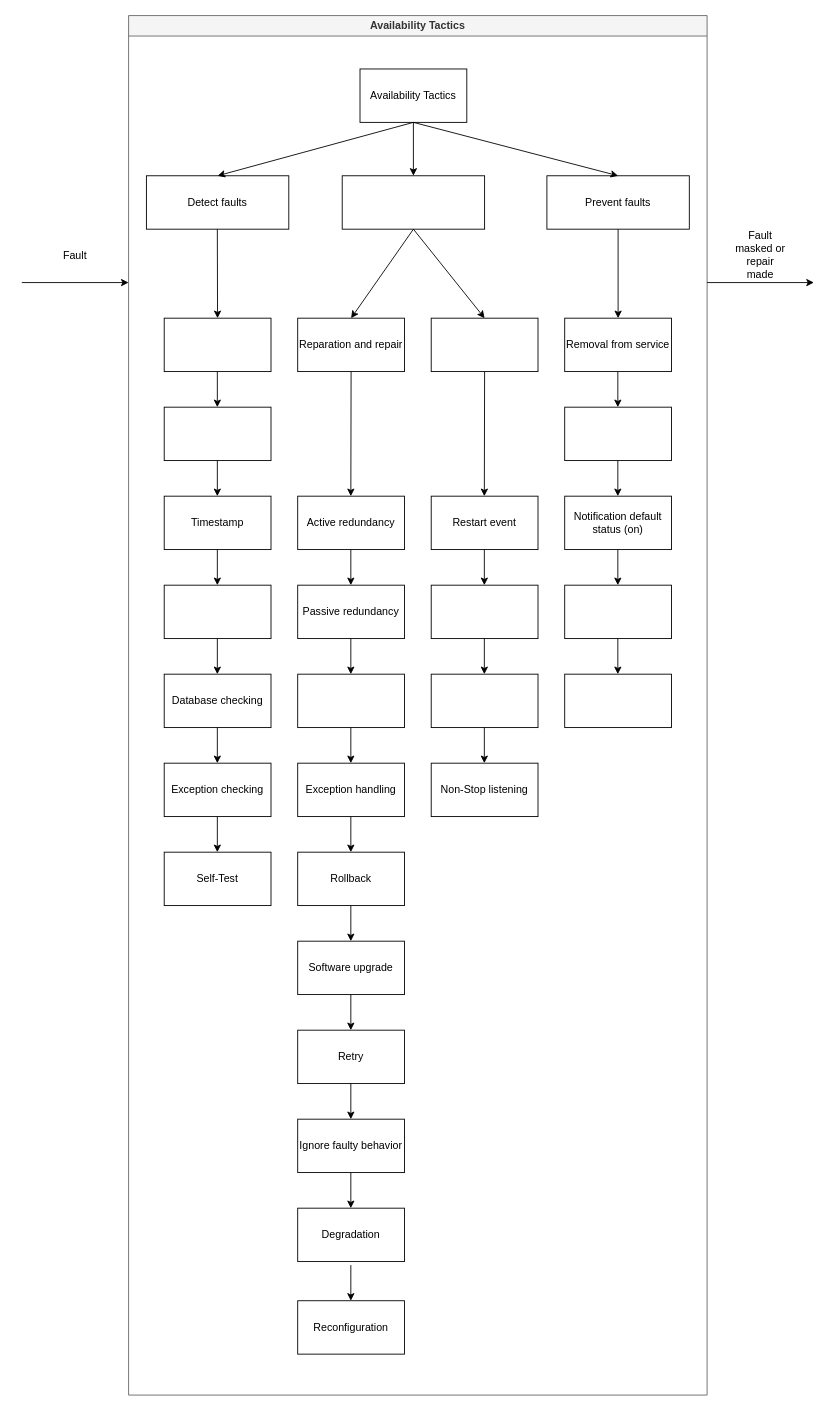
Image size: 837x1411. Some labels were removed from this diagram. The shapes that lost their labels are listed below. From the top down, each one's box as (x1, y1, x2, y2) in pixels, then its label:
(341, 175, 485, 229): Recover from faults
(163, 317, 271, 372): Ping / Echo
(430, 317, 538, 372): Reintroduction
(163, 406, 271, 461): Notification
(564, 406, 672, 461): Check notifications before event happens
(163, 584, 271, 639): Event checking
(430, 584, 538, 639): Restart event listener
(564, 584, 672, 639): Exception prevention
(297, 673, 405, 728): Spare
(430, 673, 538, 728): Escalation restart
(564, 673, 672, 728): Backup (Database/Carbon Copy)
